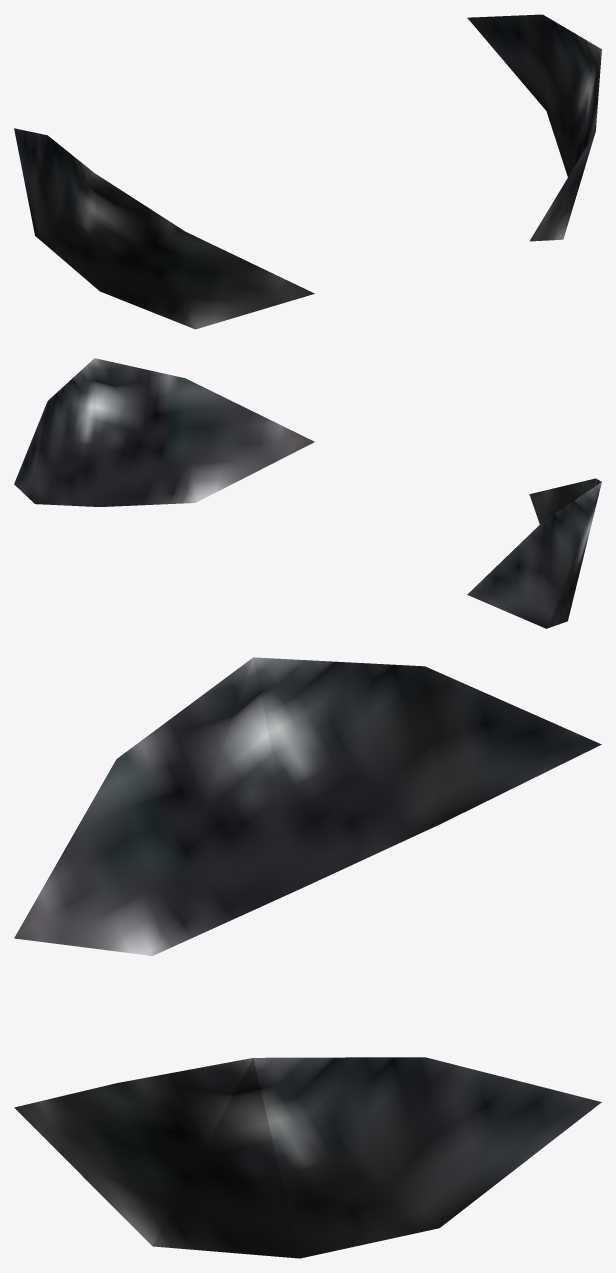
File: sn07eye.FBX
3 views of the same model, one above another, from view 1: azimuth 30°, elevation 25°; view 2: azimuth 150°, elevation 25°; view 3: azimuth 270°, elevation 25° (orthographic). The views are drawn at different scales.
Parts seen in each view (by area): view 1: Ob03, Ob04; view 2: Ob04, Ob03; view 3: Ob03, Ob04.
Part boxes in pixels (x1,y1,x2,y2): Ob03: [14, 128, 314, 329]; Ob04: [467, 14, 601, 241]; Ob04: [14, 358, 314, 506]; Ob03: [467, 478, 601, 628]; Ob03: [14, 657, 601, 955]; Ob04: [14, 1057, 601, 1258].
Size of the model in its own units: 7.36 by 2.07 by 4.53.
Materials: 1 (1 with a texture image).
